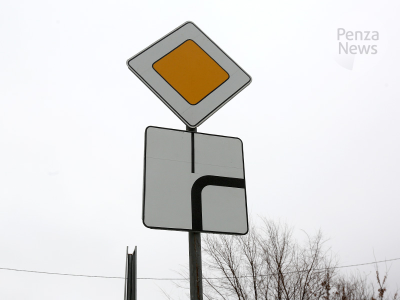priority_road: (142, 29, 237, 119)
